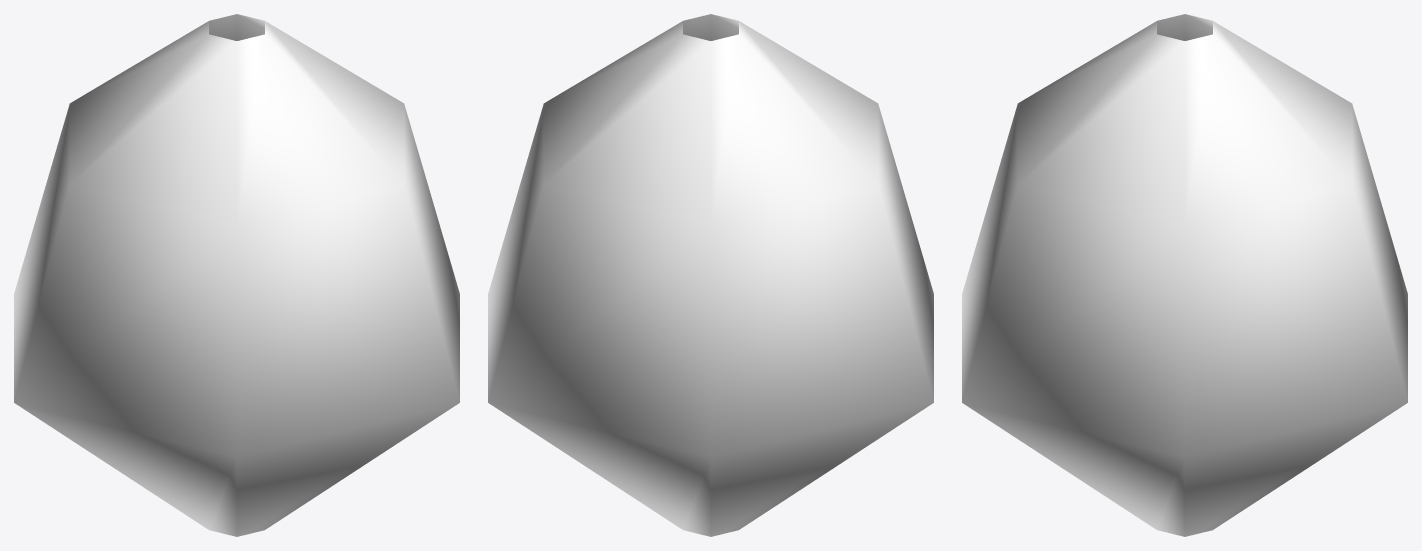
Rendered from gem_glow.glb.
3 views of the same model, side by side, from view 1: azimuth 30°, elevation 25°; view 2: azimuth 150°, elevation 25°; view 3: azimuth 270°, elevation 25° (orthographic).
Visible parts, largest first — view 1: GemGlow; view 2: GemGlow; view 3: GemGlow.
Boxes of the visible parts, x1,y1,x2,y2 form: GemGlow: (14,14,459,536); GemGlow: (488,14,933,536); GemGlow: (962,14,1407,536).
Size of the model in its own units: 0.32 by 0.34 by 0.2771.
Materials: 1 (1 with a texture image).
